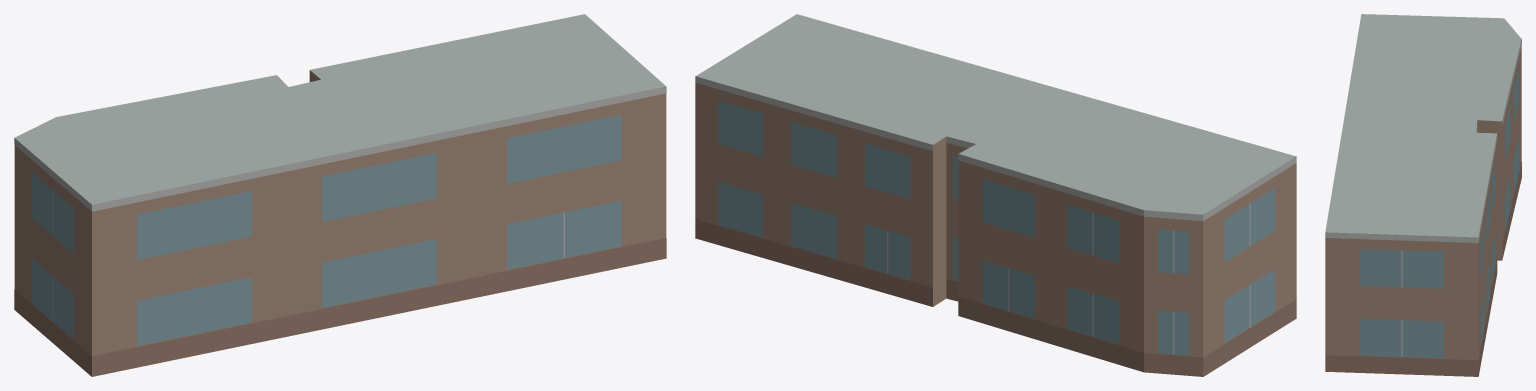
Rendered from survey-upis-32806318.glb.
3 renders of one model, left to right at view 1: azimuth 30°, elevation 25°; view 2: azimuth 150°, elevation 25°; view 3: azimuth 270°, elevation 25°, orthographic. The views are drawn at different scales.
Visible parts, largest first — view 1: survey-upis-32806318.tmp; view 2: survey-upis-32806318.tmp; view 3: survey-upis-32806318.tmp.
Boxes of the visible parts, x1,y1,x2,y2 form: survey-upis-32806318.tmp: [14, 14, 666, 376]; survey-upis-32806318.tmp: [695, 14, 1296, 376]; survey-upis-32806318.tmp: [1325, 14, 1521, 376].
Bounding box in the file's own units: 20.99 × 6.1 × 7.8.
